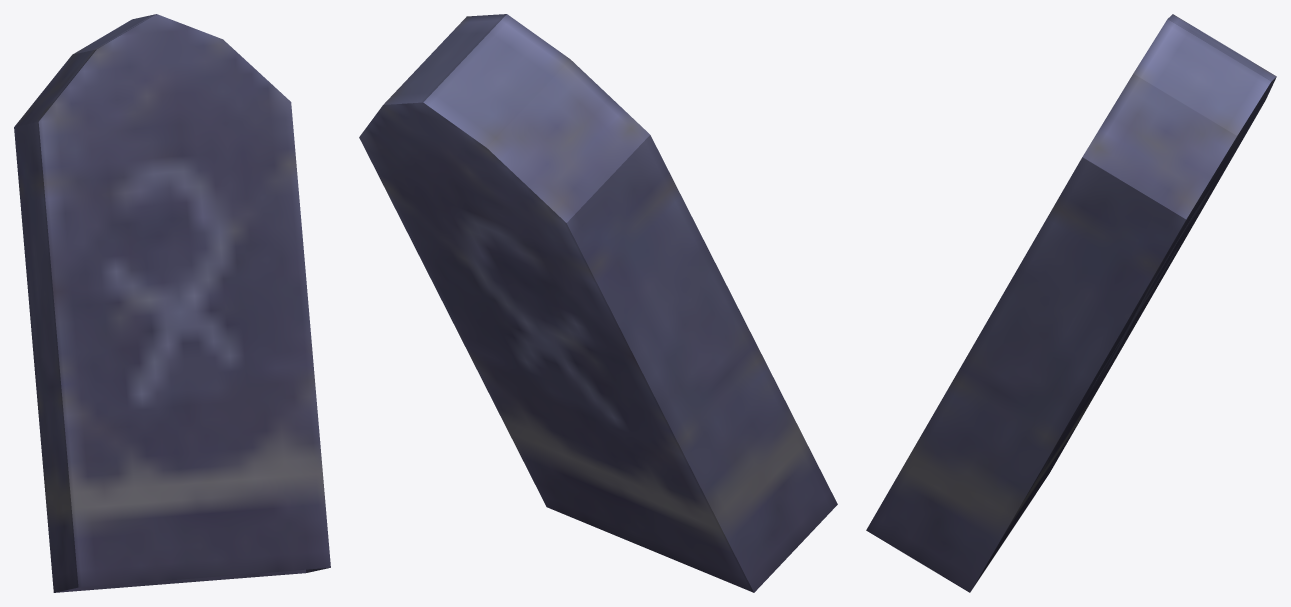
Rendered from Area07_5.fbx.
The picture shows the model from 3 angles, left to right: view 1: azimuth 30°, elevation 25°; view 2: azimuth 150°, elevation 25°; view 3: azimuth 270°, elevation 25°; orthographic projection. The views are drawn at different scales.
Parts seen in each view (by area): view 1: Area07_5; view 2: Area07_5; view 3: Area07_5.
Part boxes in pixels (box(x1,y1,x2,y2)): Area07_5: box(14, 14, 330, 592); Area07_5: box(359, 14, 837, 592); Area07_5: box(866, 14, 1276, 592).
Size of the model in its own units: 153 by 246 by 168.
